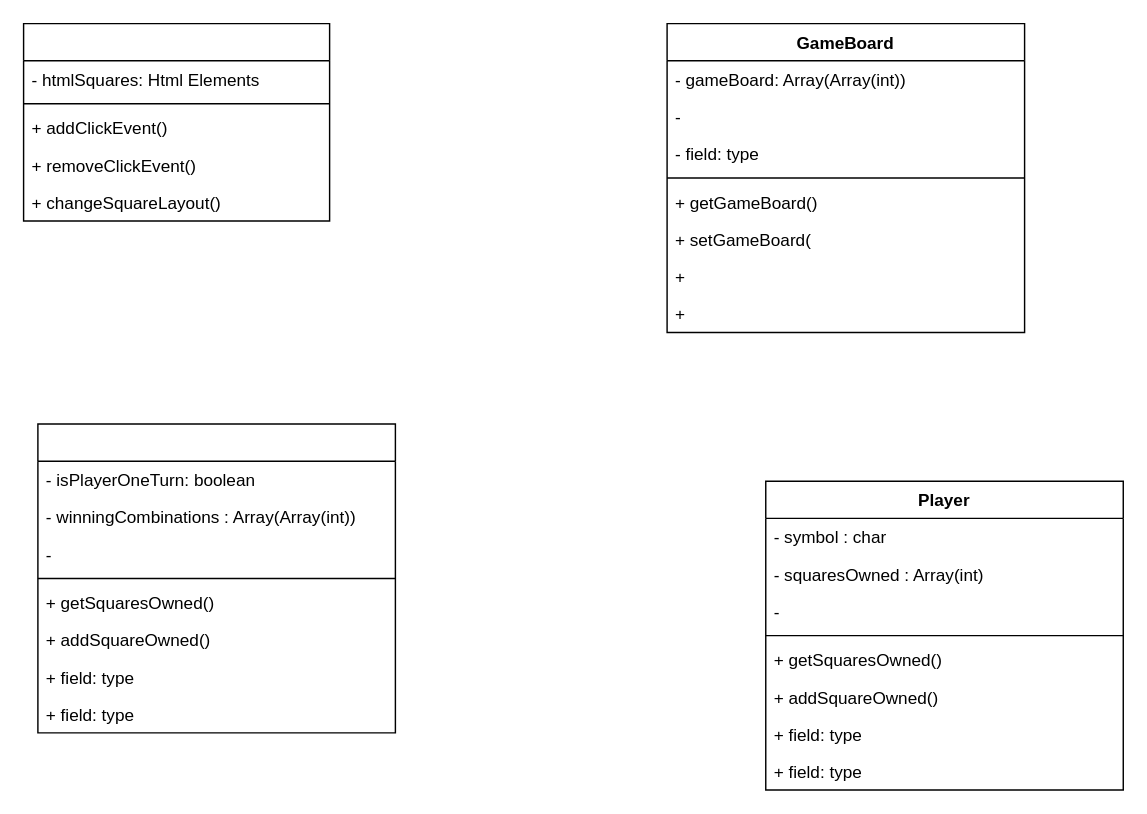
This 1147x814 diagram has some shape labels left out. Each missing label, with the box of its shape:
DisplayController: (22, 22, 330, 221)
Game: (36, 423, 395, 733)
